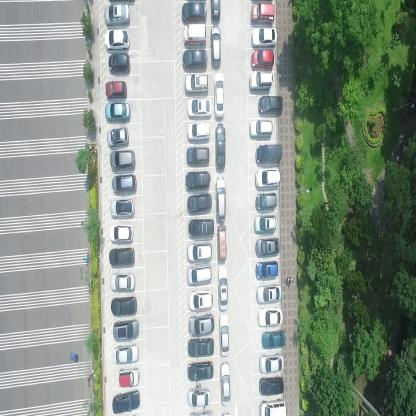car: (112, 388, 140, 415), (112, 318, 140, 341), (188, 311, 214, 335), (184, 190, 212, 212), (188, 288, 212, 313), (110, 171, 136, 194), (187, 335, 214, 357), (186, 359, 213, 381), (259, 351, 284, 374), (181, 1, 207, 23), (110, 148, 136, 170), (108, 244, 134, 266), (113, 343, 139, 365), (186, 264, 212, 286), (186, 241, 212, 263), (255, 143, 282, 164), (110, 271, 135, 293), (258, 375, 284, 396), (104, 102, 131, 122), (213, 70, 224, 118), (182, 25, 206, 47), (184, 72, 208, 94), (186, 96, 210, 118), (256, 282, 280, 304), (251, 26, 276, 47), (105, 4, 130, 25), (188, 217, 214, 237), (110, 296, 136, 316), (103, 29, 130, 48), (106, 125, 128, 148), (218, 311, 229, 357), (250, 48, 274, 69), (258, 93, 282, 114), (109, 221, 133, 242), (261, 328, 285, 349), (256, 167, 280, 188), (249, 70, 273, 91), (255, 236, 280, 256), (220, 361, 232, 402), (260, 397, 287, 415), (186, 121, 209, 142), (248, 117, 272, 137), (185, 145, 209, 165), (110, 197, 134, 217), (215, 121, 225, 169), (187, 387, 211, 407), (185, 170, 210, 189), (257, 307, 282, 326), (215, 173, 225, 220), (108, 52, 131, 72), (256, 260, 279, 280), (250, 3, 274, 22), (182, 50, 207, 68), (217, 264, 227, 309), (118, 366, 140, 386), (254, 214, 277, 233), (211, 25, 221, 67), (104, 80, 127, 98), (256, 192, 278, 210), (217, 224, 226, 261), (210, 0, 221, 22)
